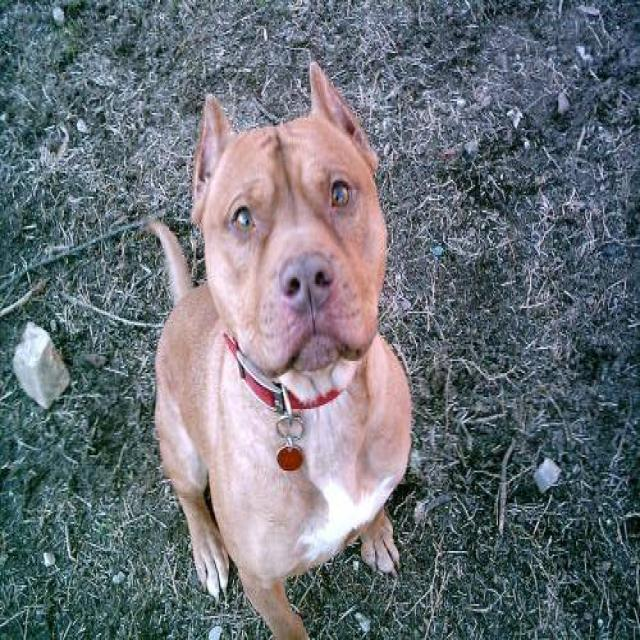dog: (144, 58, 414, 638)
